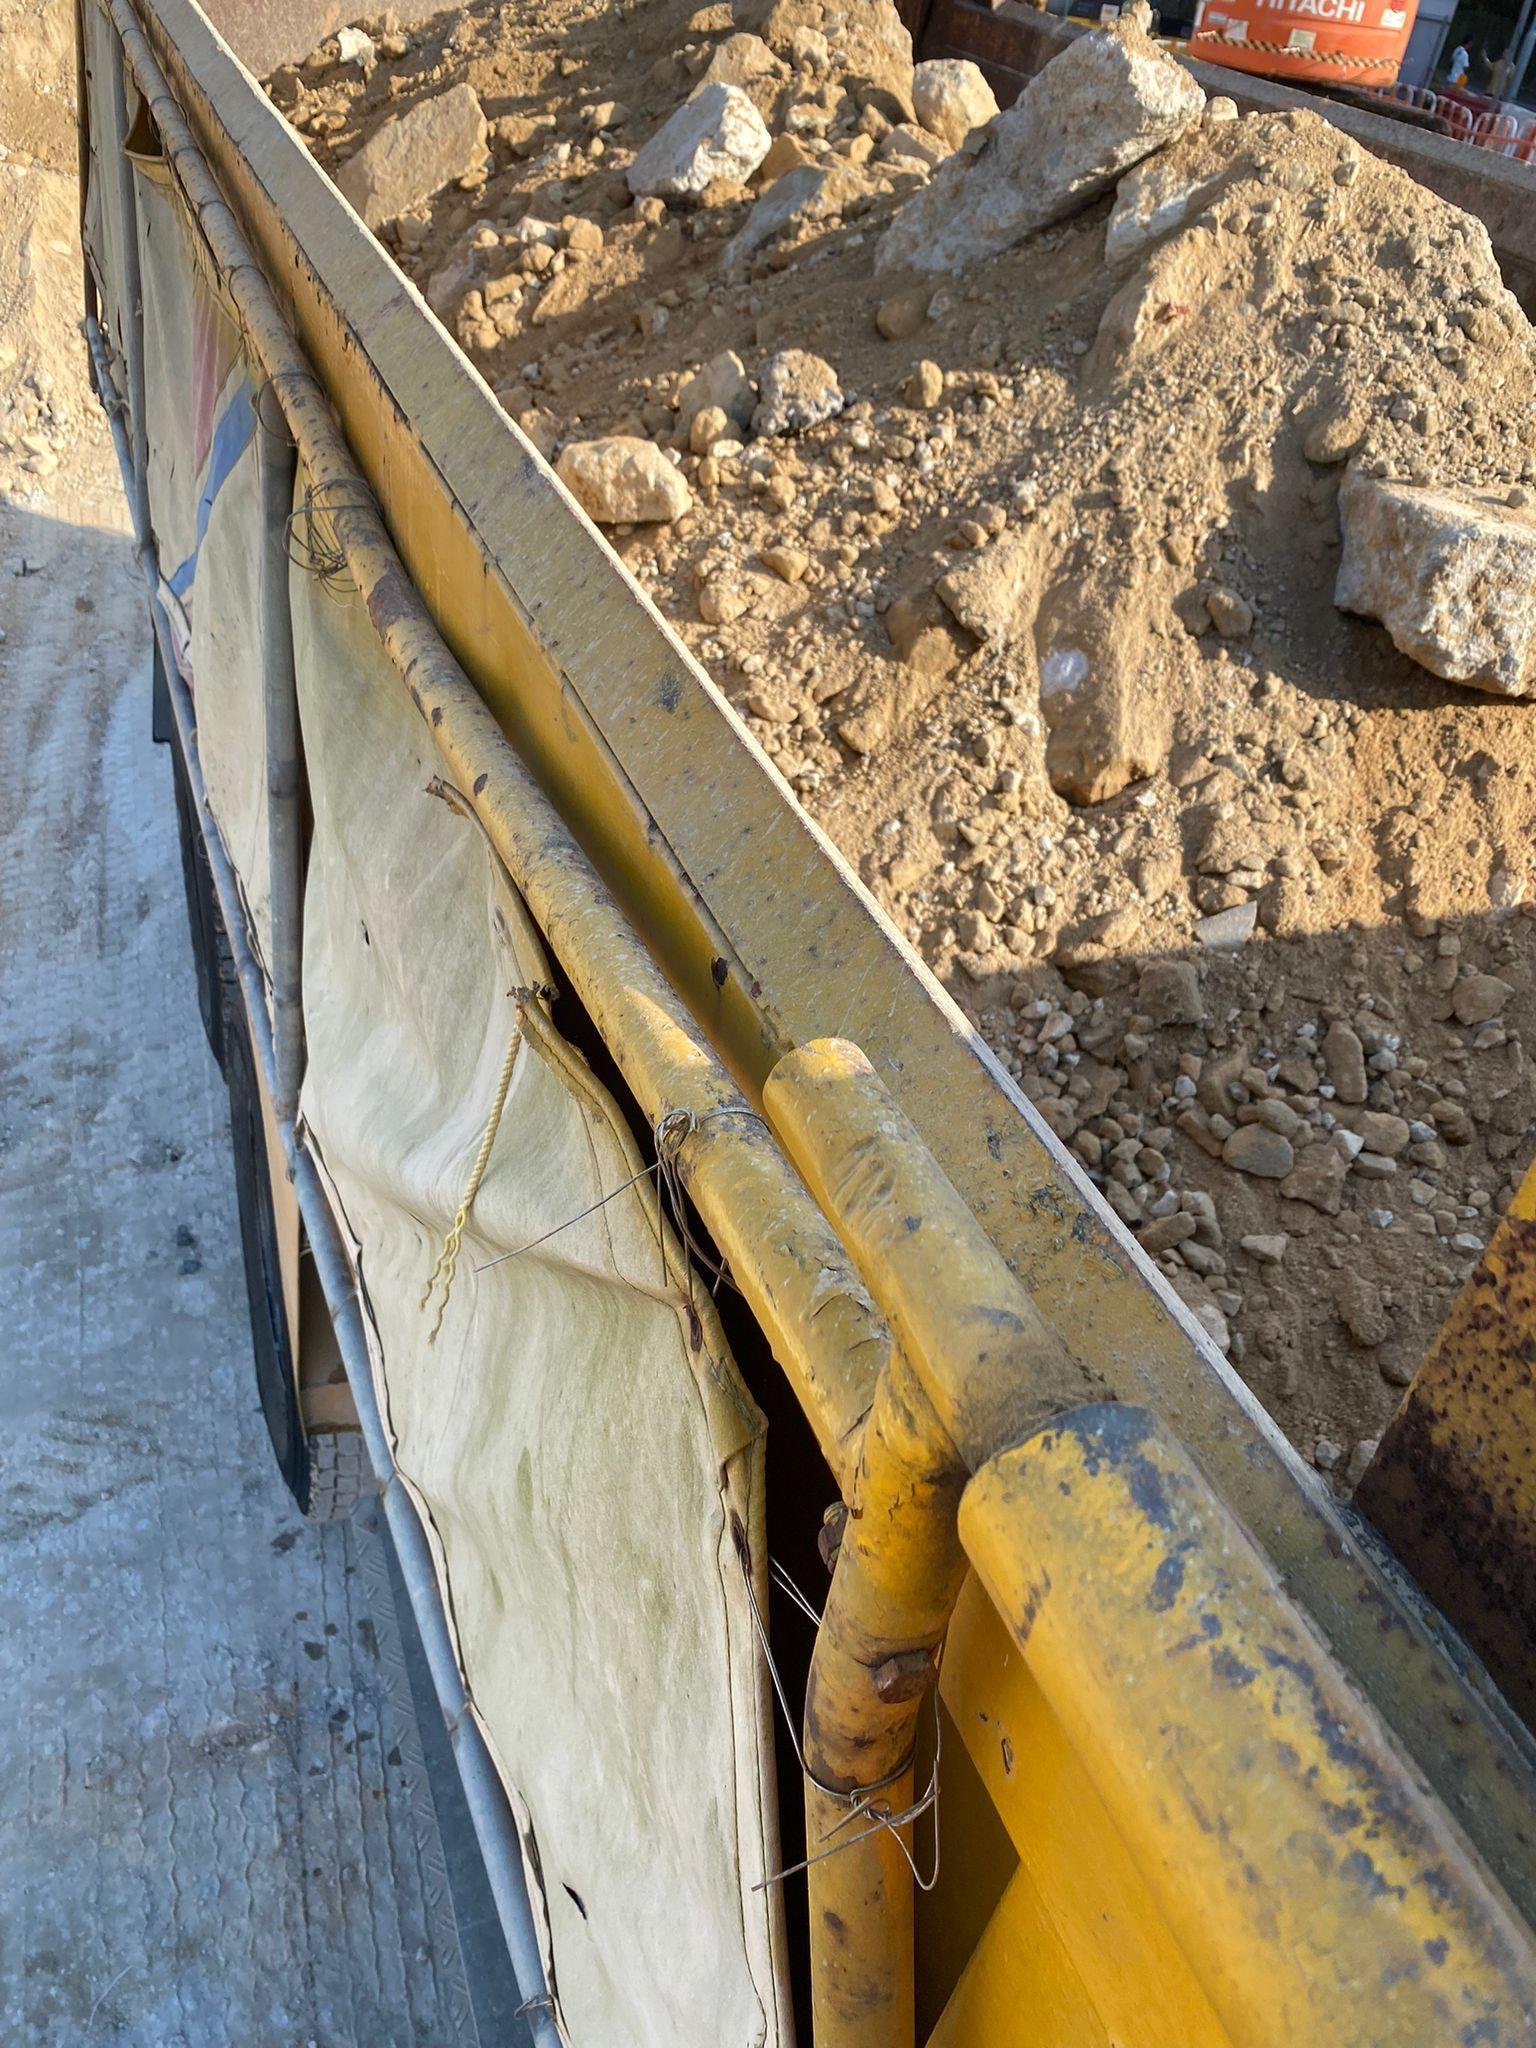dry: (316, 10, 1536, 1477)
